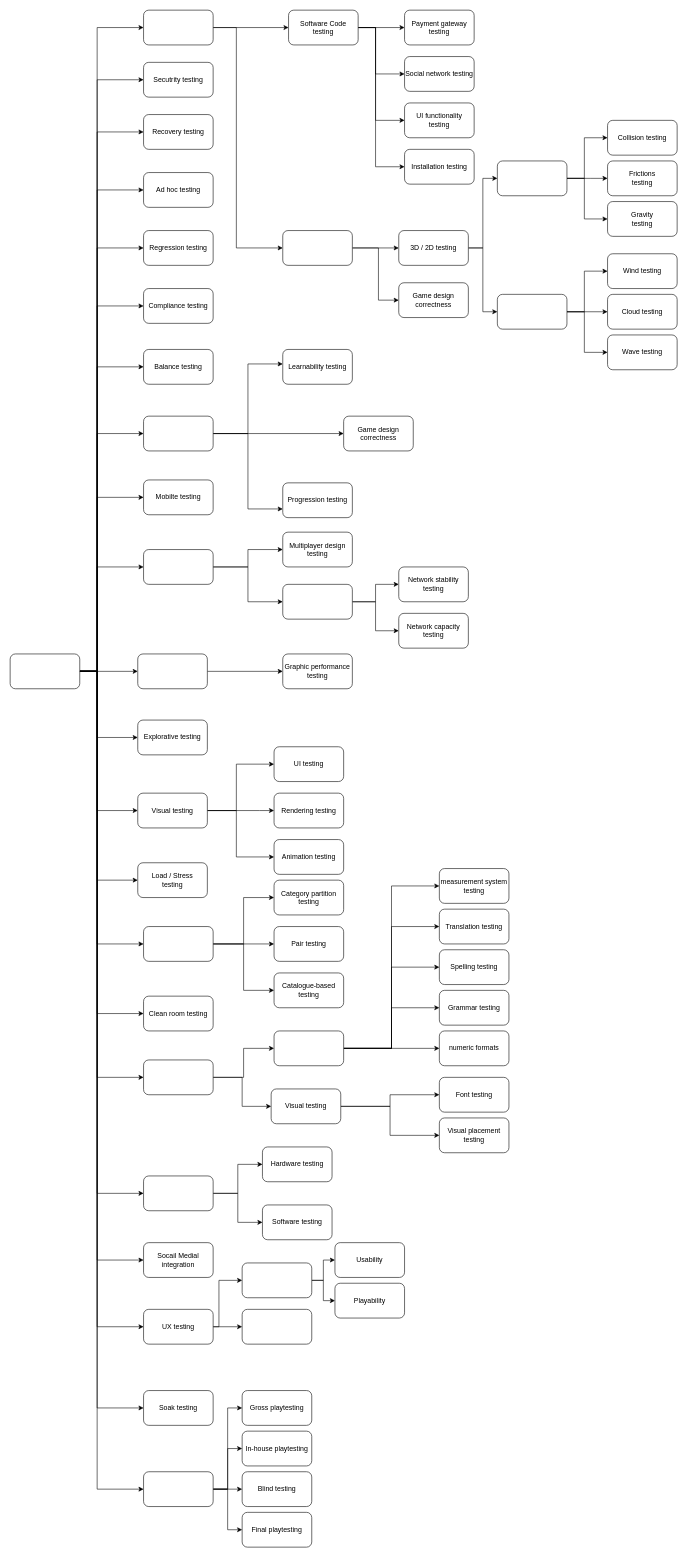
This 687x1557 diagram has some shape labels left out. Here are the shapes that lost their labels. From the top down, the centre of each, then its label:
At (178,27): "Functionality testing".
At (532,178): "Physics testing".
At (317,247): "Game mechanics testing".
At (532,311): "Natural phenomena testing".
At (178,433): "Flow testing".
At (178,566): "Multiplayer testing".
At (317,601): "Network testing".
At (45,671): "Testing Goal".
At (172,671): "Performance testing".
At (178,943): "Combinatorial testing".
At (308,1048): "Language testing".
At (178,1077): "Localization testing".
At (178,1193): "Compatibility testing".
At (277,1280): "Usability testing".
At (277,1326): "Fun Factor testing".
At (178,1489): "Play testing".
